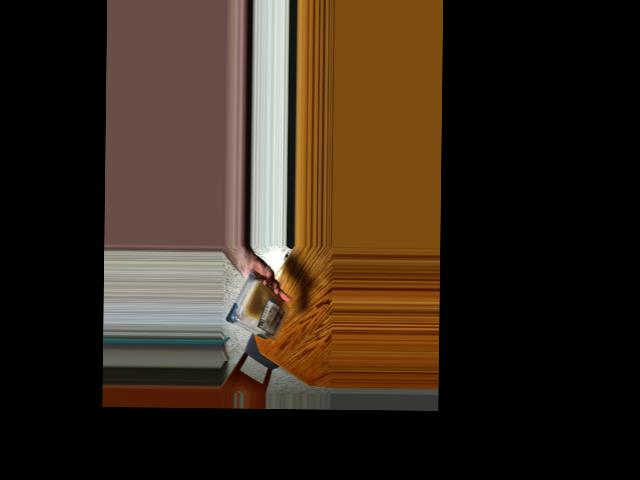cheese: (233, 275, 287, 344)
